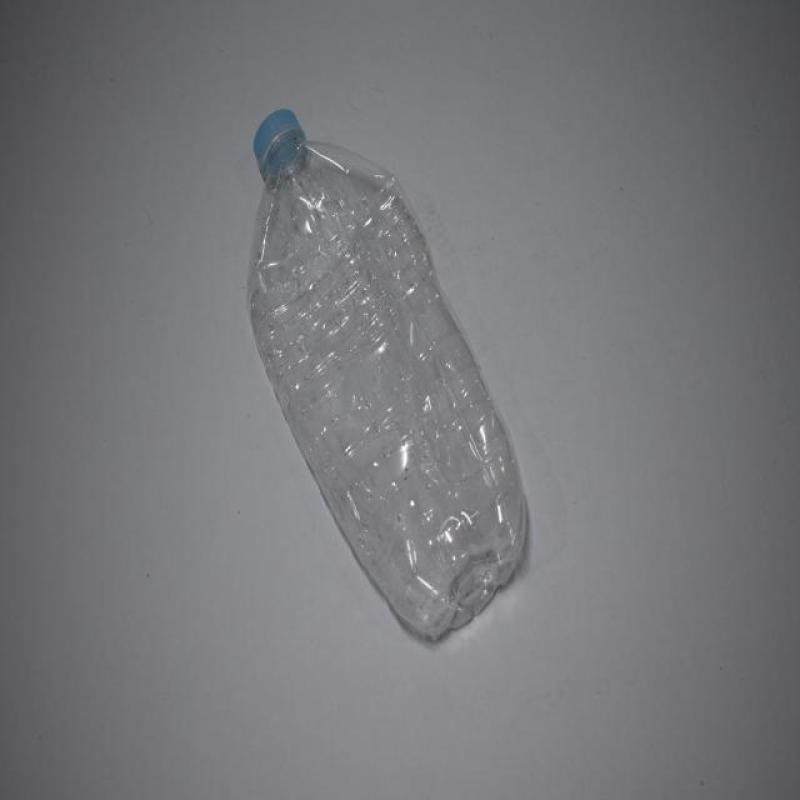botella: (246, 104, 532, 645)
